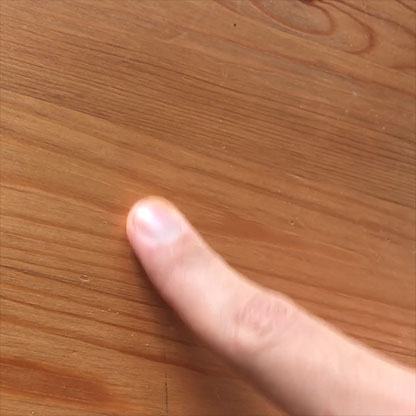fingertip: (114, 189, 208, 269)
